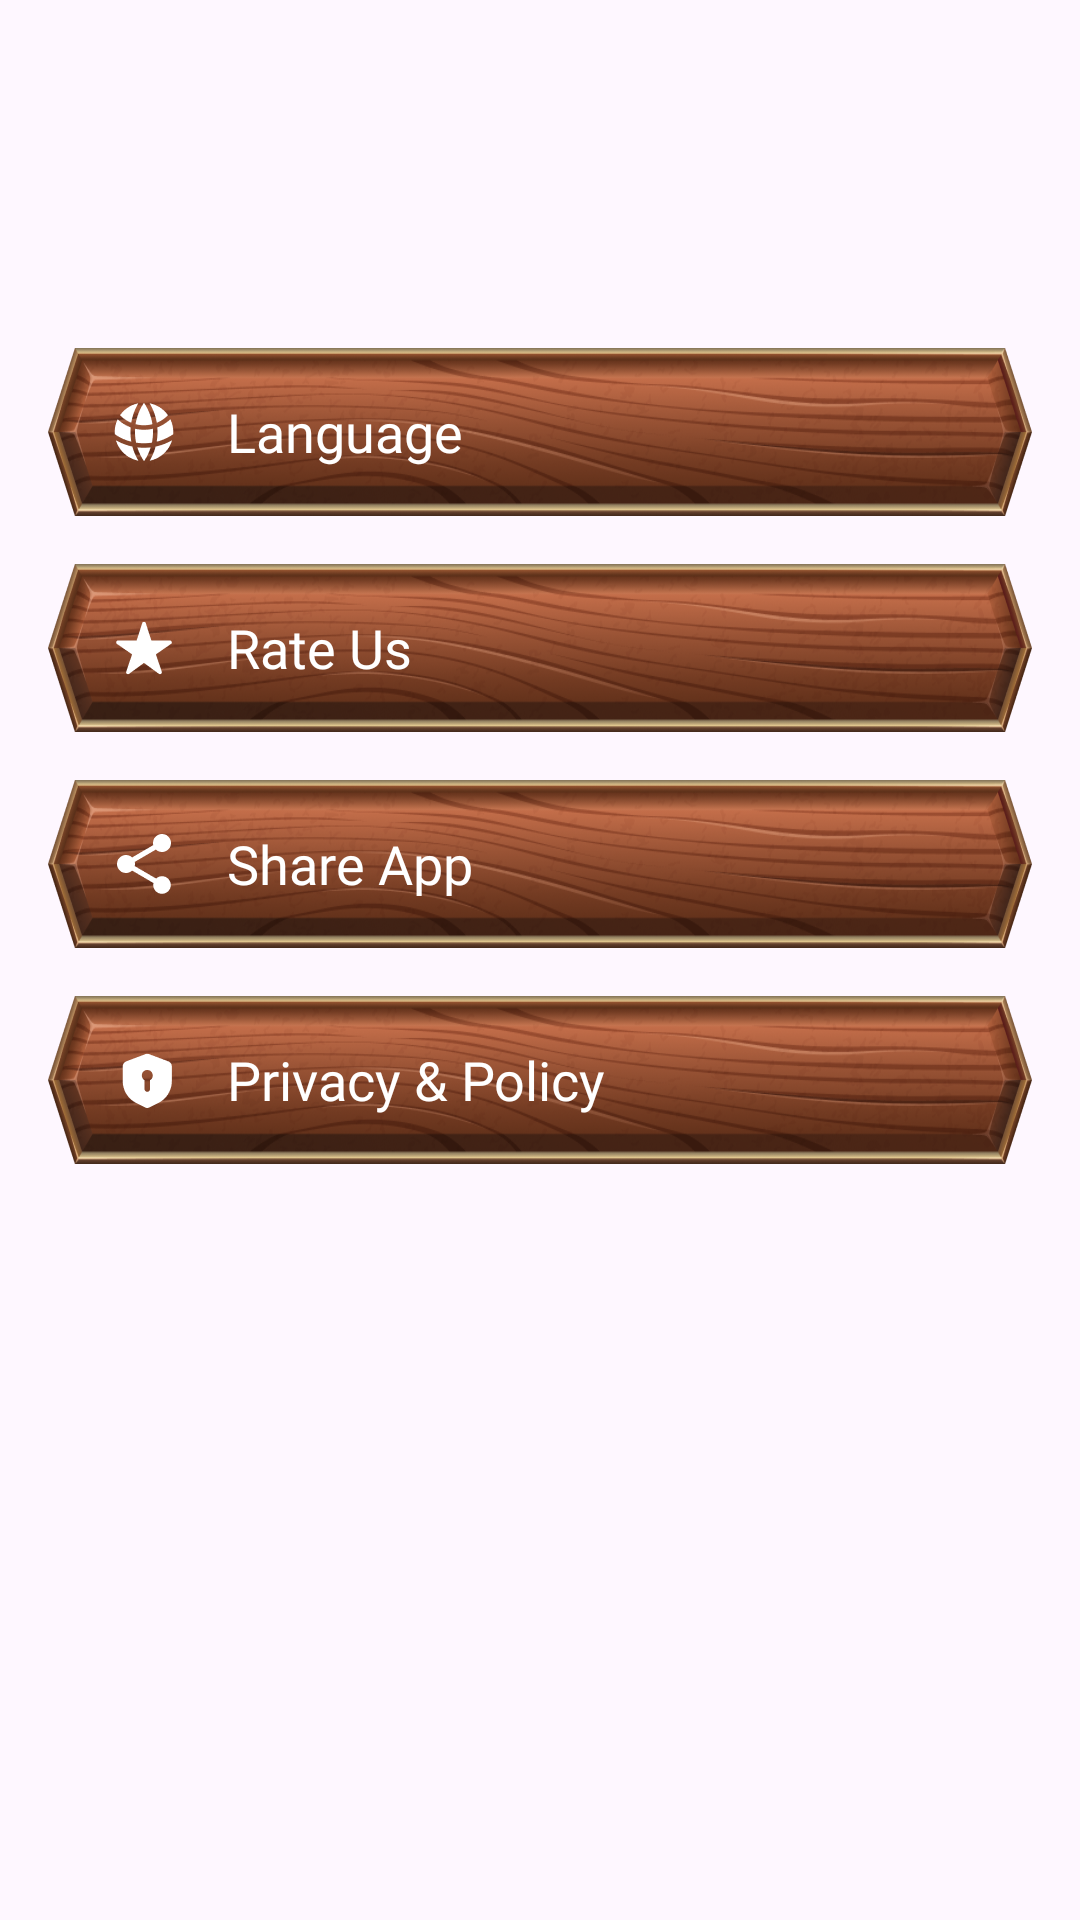

Where to tap for icons on this 1080*1920 app screen, as (x,y):
lang set: (144,432)
policy set: (144,1080)
rate set: (144,648)
share set: (144,864)
